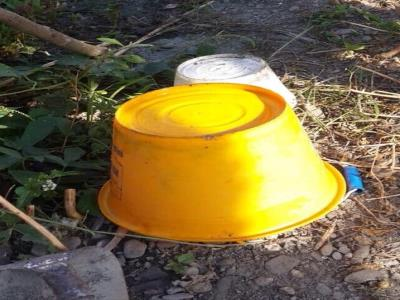bottle: (345, 165, 365, 192)
bucket: (96, 81, 360, 246), (170, 51, 298, 115)
